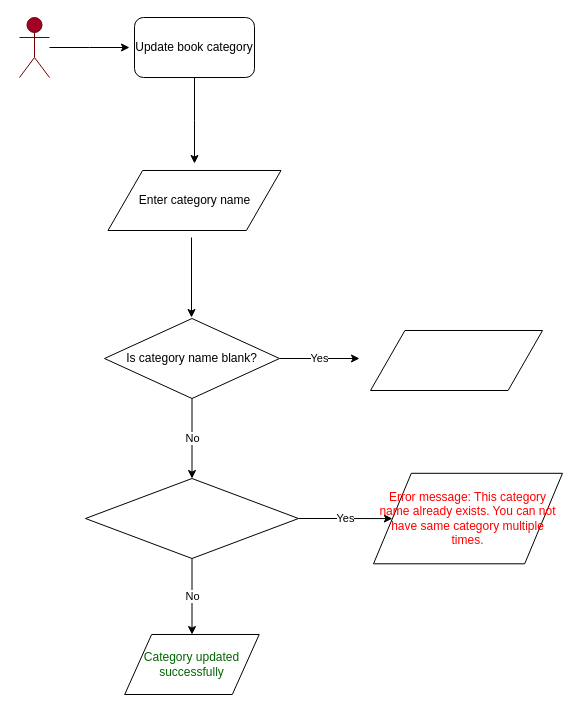
Image size: 580x712. Some labels were removed from this diagram. Here are the shapes that lost their labels. From the top down, the centre of each, then its label:
At point 34,47: "Admin".
At point 456,360: "Error message: Please fill out this field".
At point 191,518: "Category name already exist".
